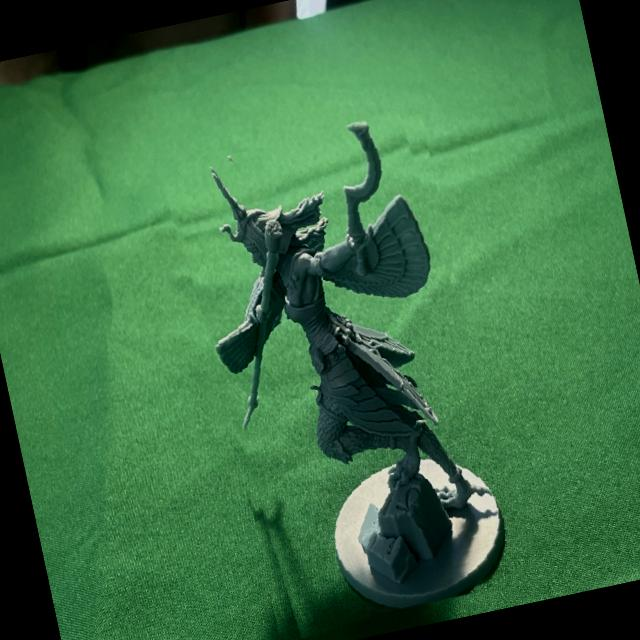isis: (168, 106, 532, 640)
